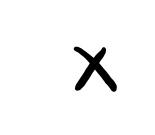mult: (71, 45, 117, 92)
